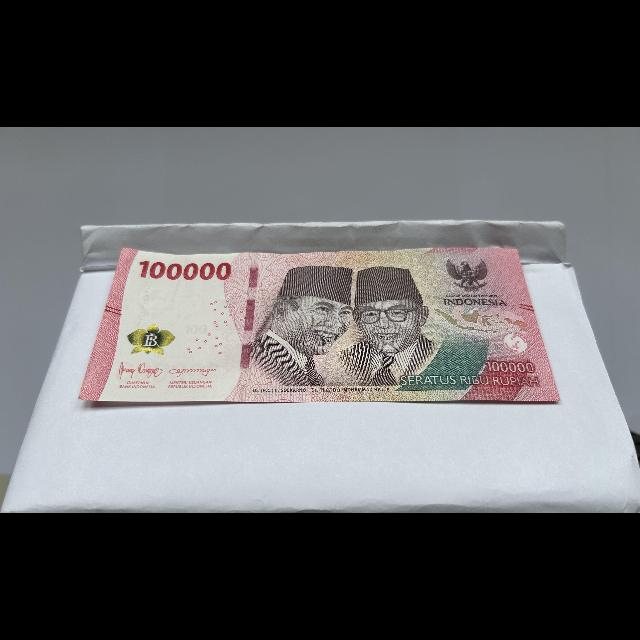Asli-100k: (74, 244, 565, 406)
Tinta-Asli-100k: (122, 322, 179, 357)
